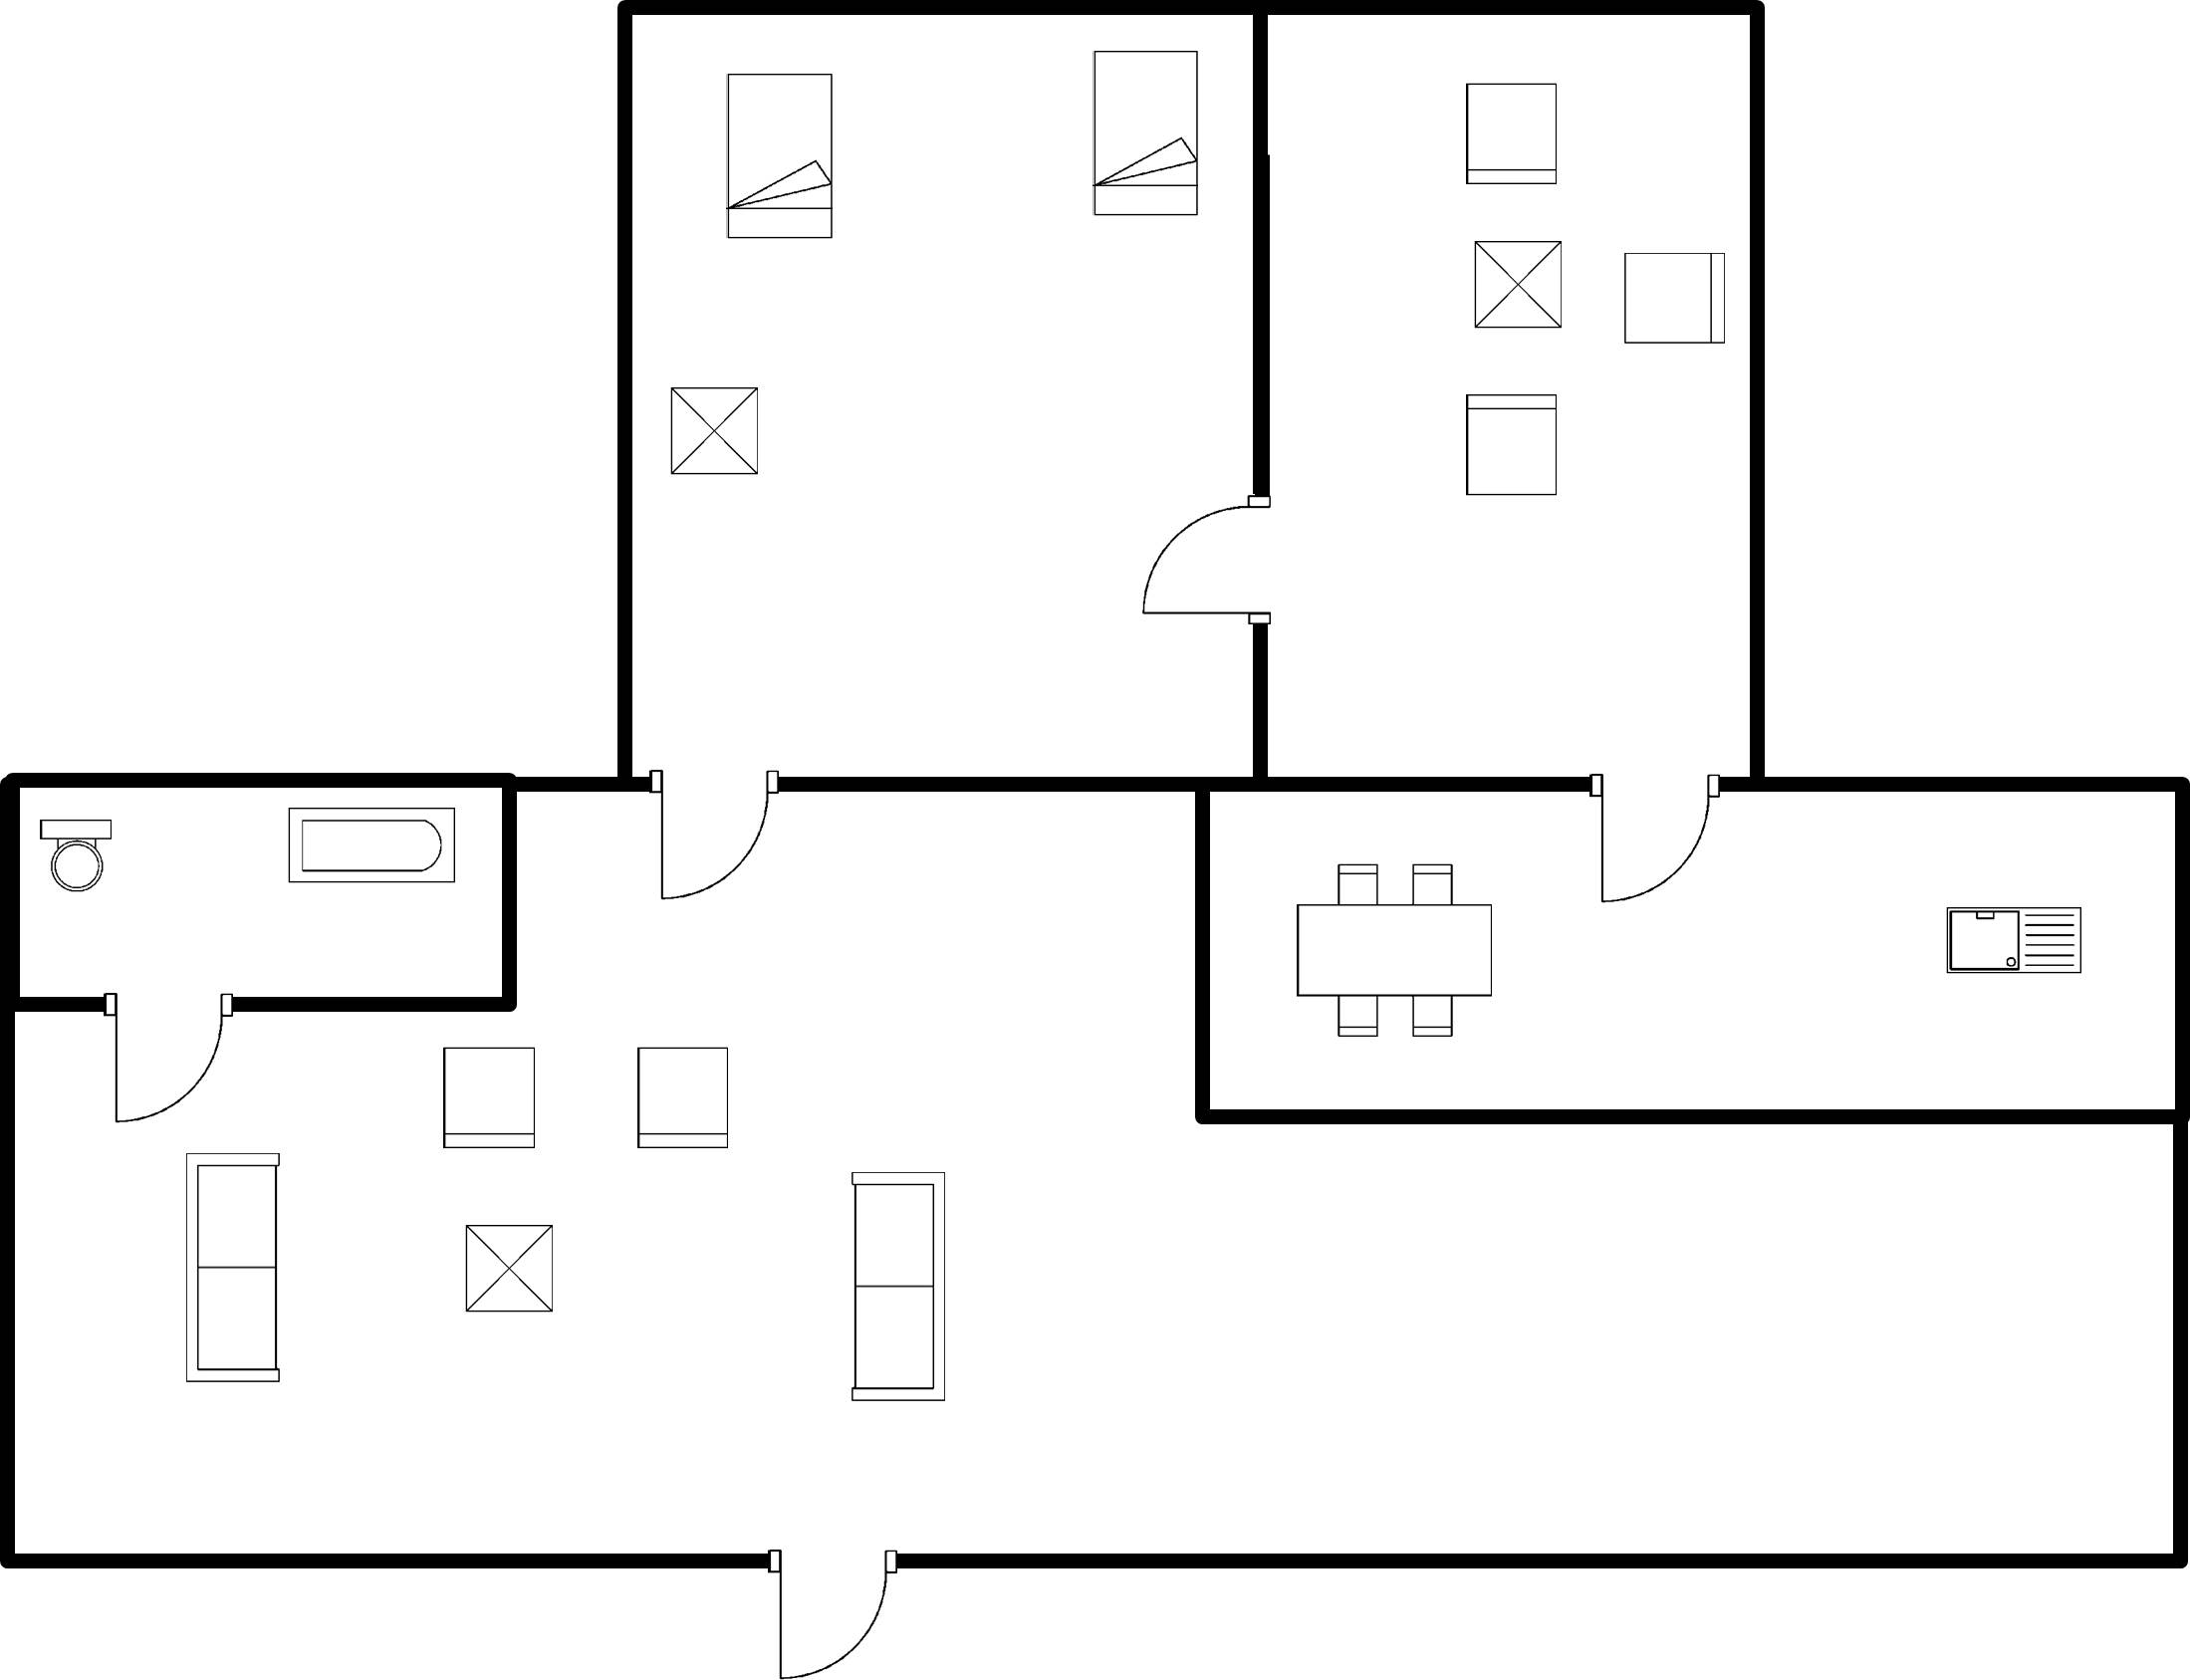bed: (713, 59, 845, 257), (1080, 35, 1205, 229)
coffee_table: (663, 374, 771, 490), (454, 1217, 567, 1324), (1463, 229, 1571, 337)
dining_table: (1287, 849, 1509, 1054)
large_sink: (30, 809, 122, 901)
large_sofa: (841, 1156, 957, 1417), (176, 1143, 291, 1398)
sink: (1933, 891, 2098, 986)
small_sofa: (429, 1036, 549, 1158), (1455, 67, 1571, 193), (623, 1036, 736, 1161), (1456, 384, 1568, 508), (1613, 245, 1734, 352)
tub: (273, 796, 464, 900)
